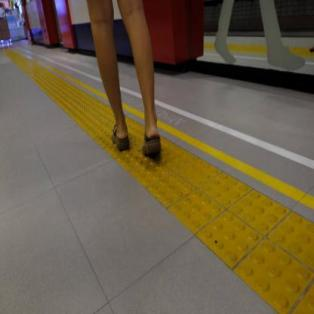Podoctatil: (3, 50, 313, 314)
